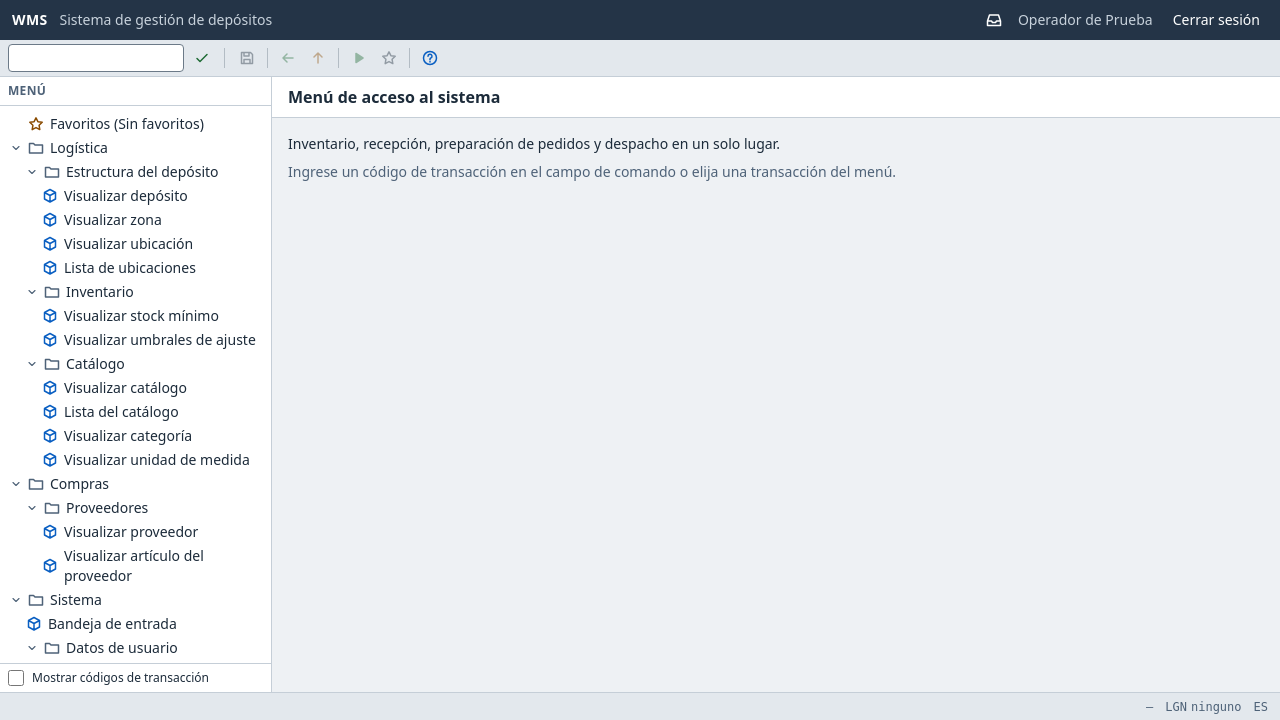
Test: rutas › cerrar sesión vuelve al login
Click the button "Cerrar sesión".
click(1216, 20)  # box top-left (1165, 6), bottom-right (1268, 34)
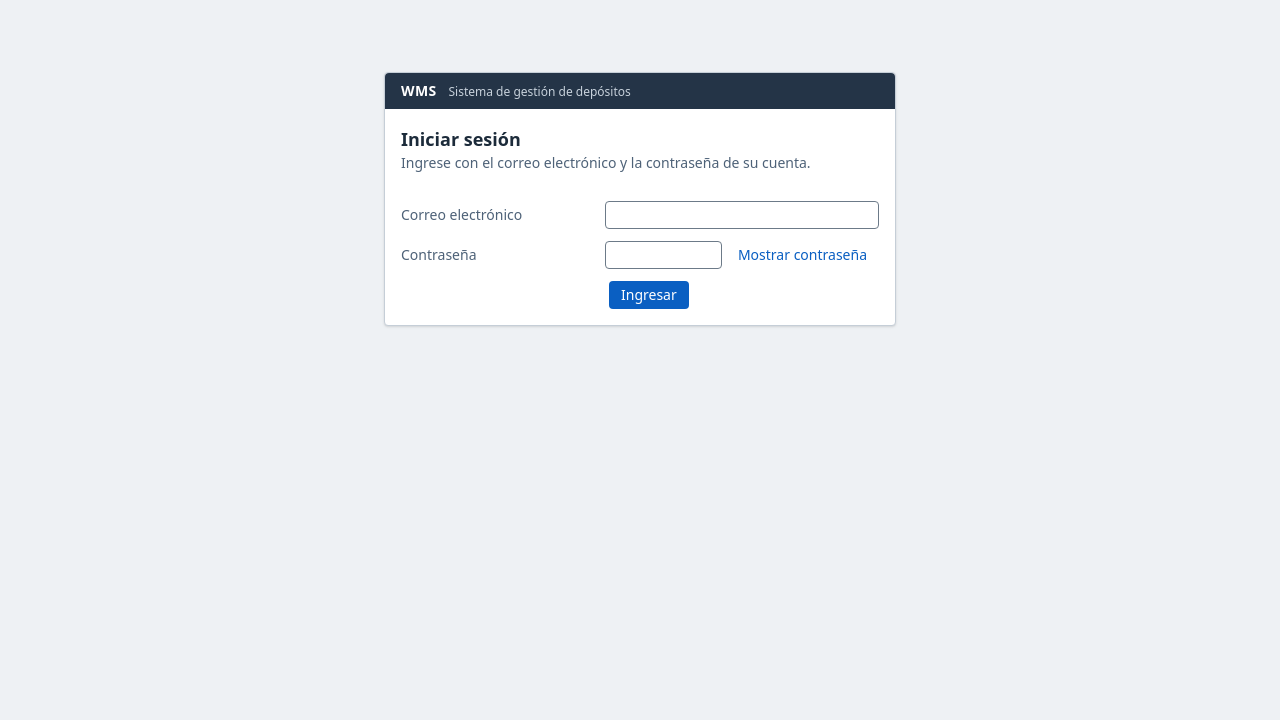
Check: the heading "Iniciar sesión" is shown, box top-left (401, 127), bottom-right (521, 151)
